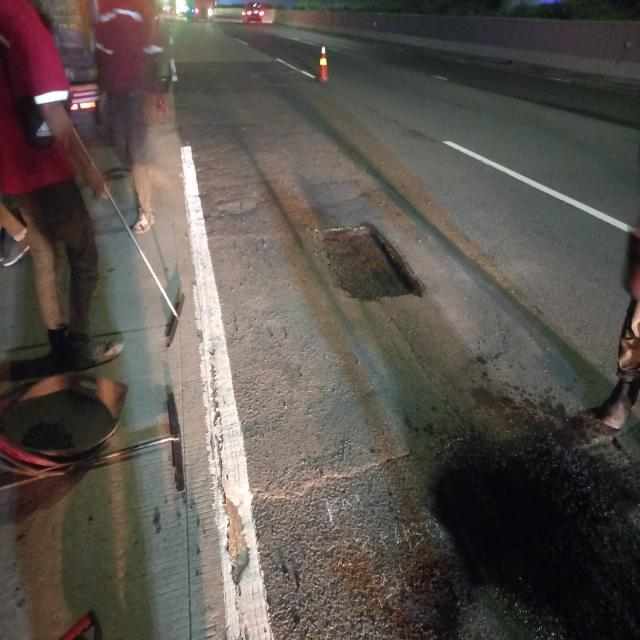Buraco: (417, 426, 640, 639), (309, 221, 427, 306)
